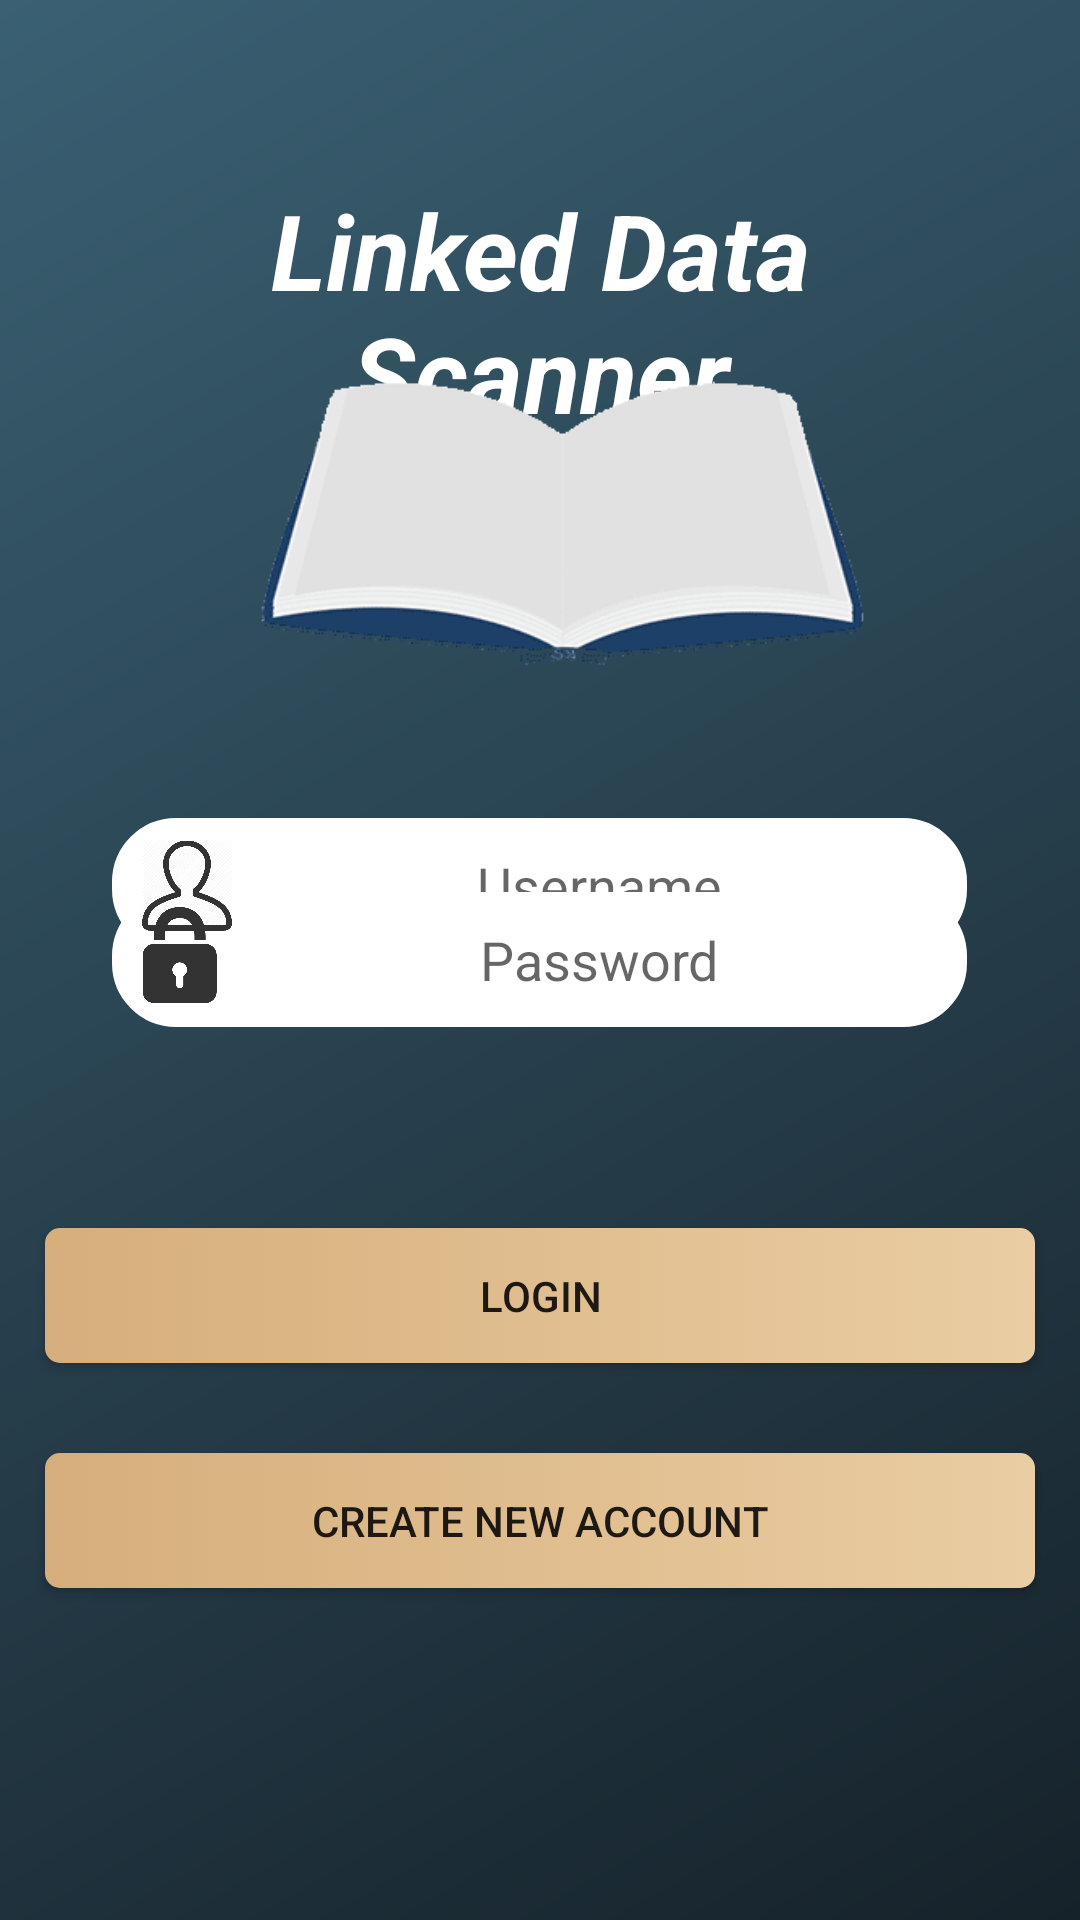

Icons on this 1080x1920 Android screen, each with its box as (x1, y1, x2, y2):
lock: (143, 944, 217, 1003)
